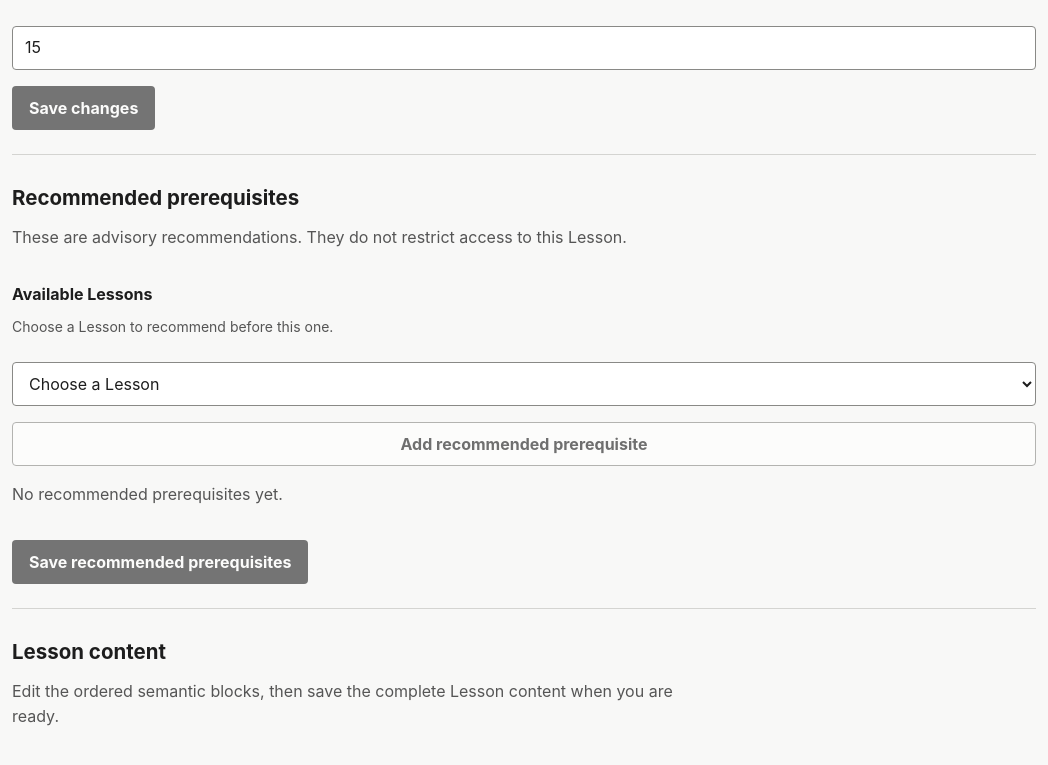
Scenario: AuthoringDraftLessonPage › keeps prerequisite changes independent from metadata changes and clears dirty state when reverted
(page scrolled)
Expected: the heading "Recommended prerequisites" is shown, [12,184,299,210]
Select "Introduction to EAI (intro-to-eai)" in the dropdown labelled "Available Lessons" at (524, 384), box [12,362,1036,406]
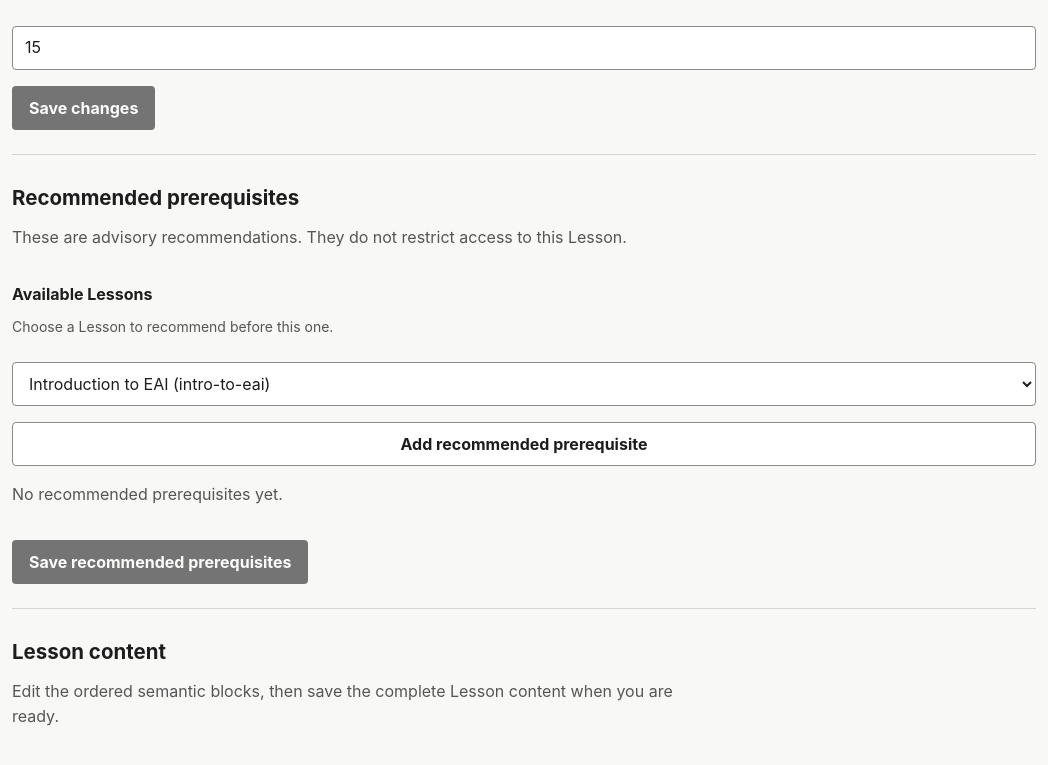
Click the button "Add recommended prerequisite" at (524, 444), box [12,422,1036,466]
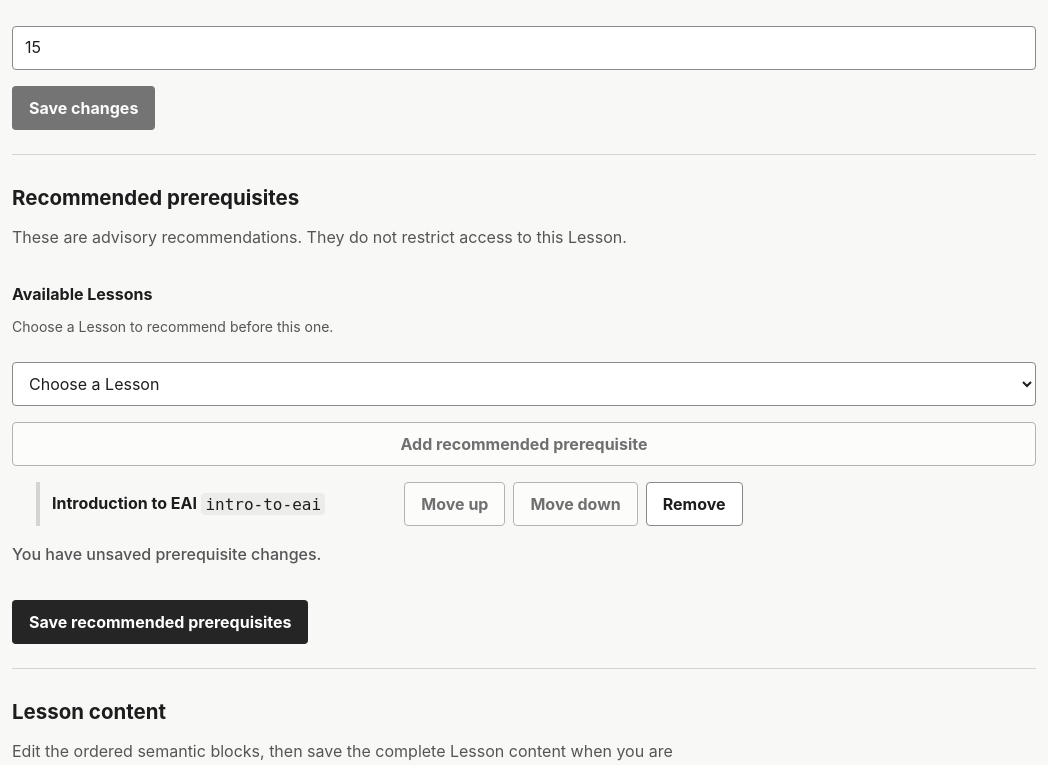
Expected: the button "Save recommended prerequisites" is enabled, [12,600,308,644]
Click the button with aria-label "Remove Introduction to EAI" at (694, 504), box [646,482,743,526]
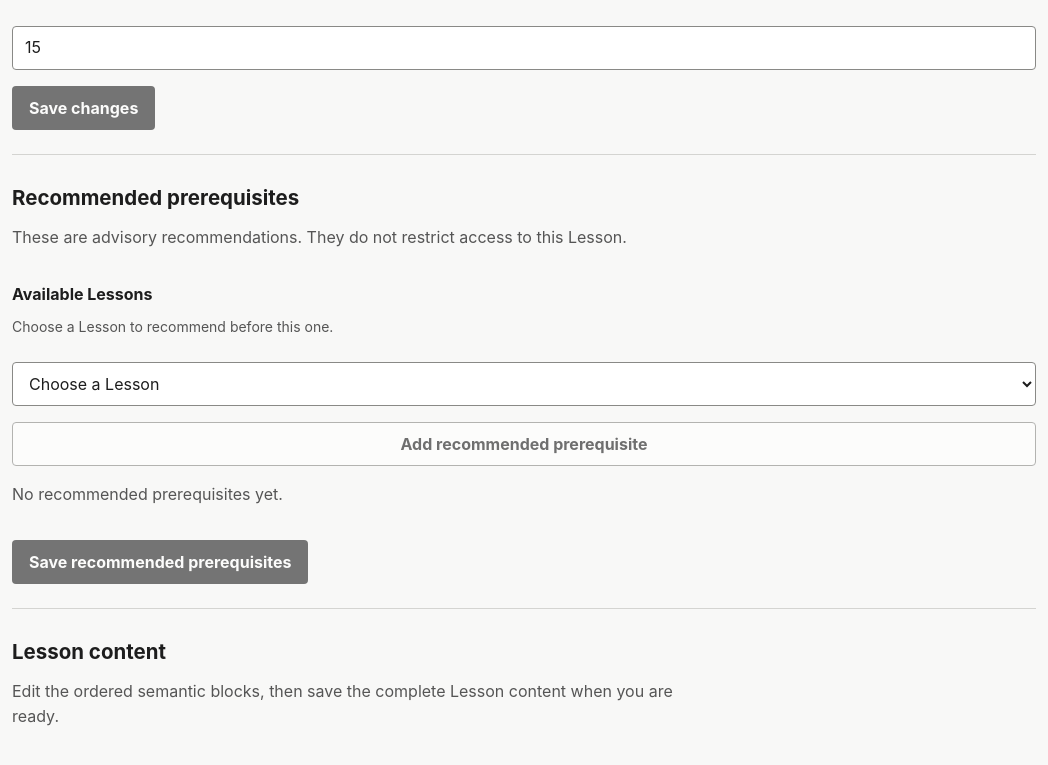
Expected: the button "Save recommended prerequisites" is disabled, [12,540,308,584]
